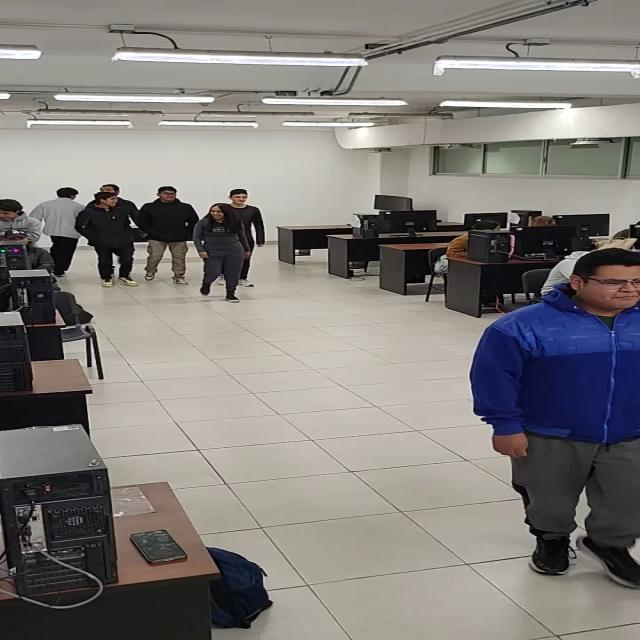Persona: (473, 254, 640, 573), (81, 192, 138, 288), (140, 186, 194, 287), (201, 205, 246, 298), (40, 189, 83, 263), (228, 188, 274, 233)
